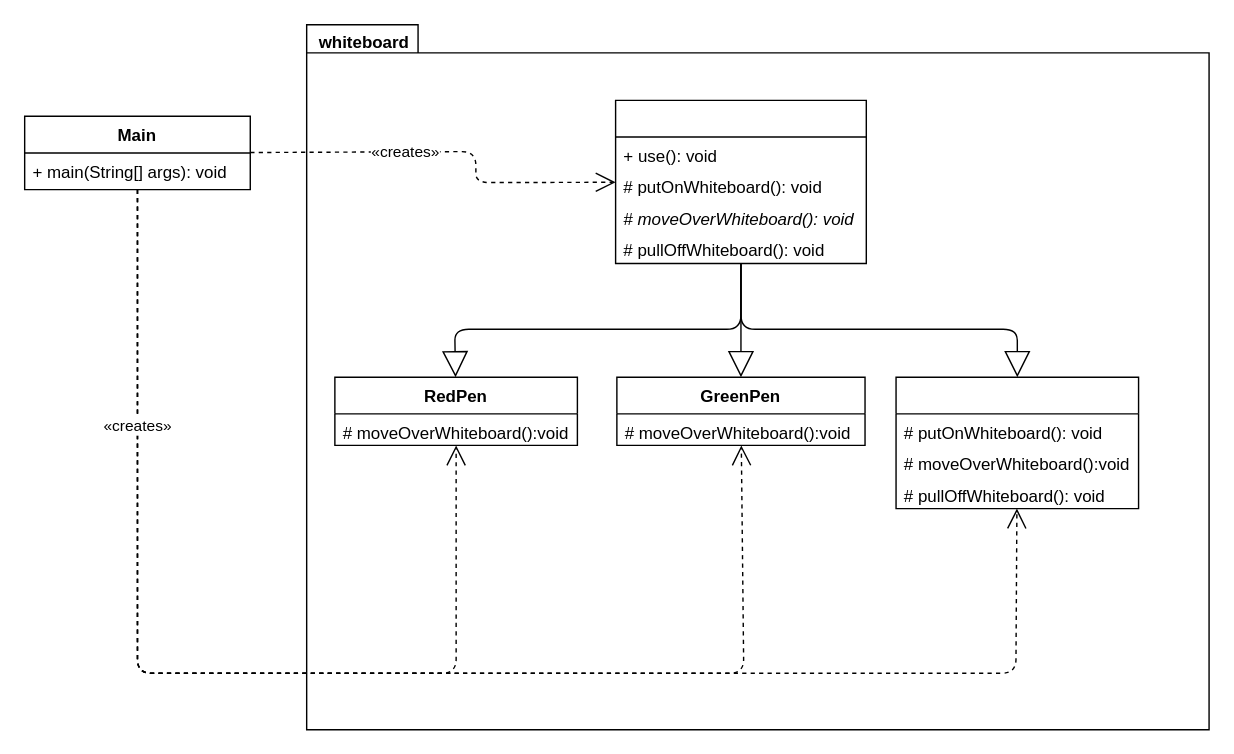
The diagram is 1234 pixels wide and 754 high, and some of its shapes have lost their labels. Each missing label, with the box of its shape:
Eraser: (895, 376, 1139, 509)
WhiteboardUtensil: (614, 99, 866, 264)
